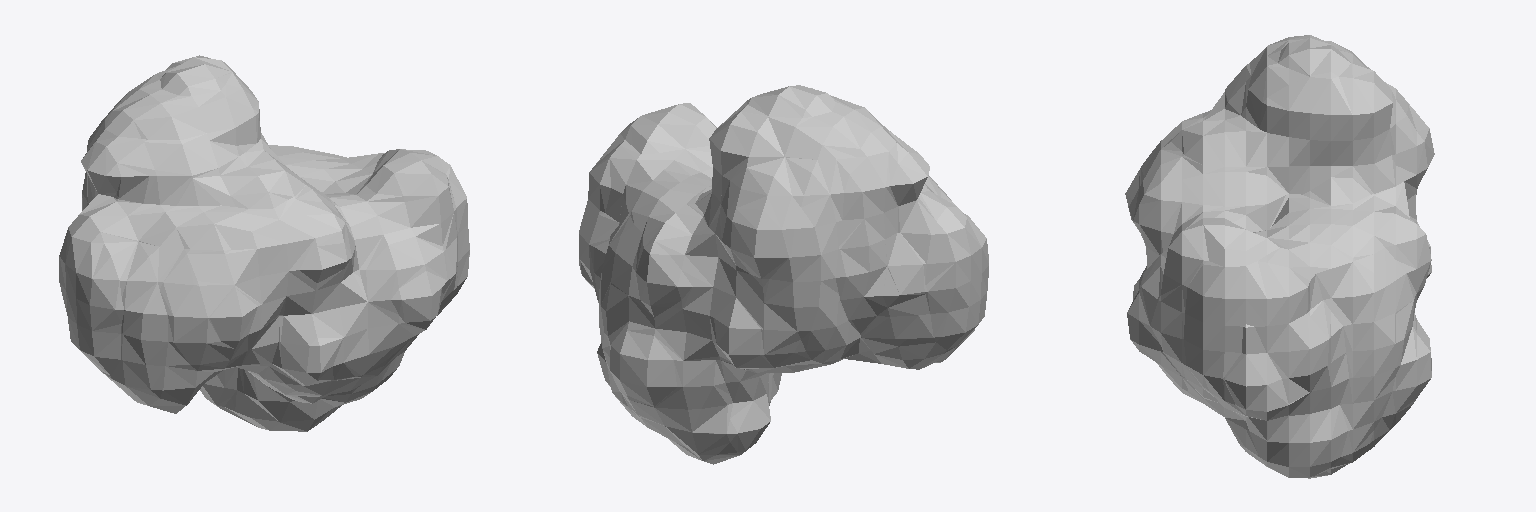
The model's file is 1a16_1_cms.obj.
3 renders of one model, left to right at view 1: azimuth 30°, elevation 25°; view 2: azimuth 150°, elevation 25°; view 3: azimuth 270°, elevation 25°, orthographic.
Bounding box in the file's own units: 140 × 129 × 95.31.